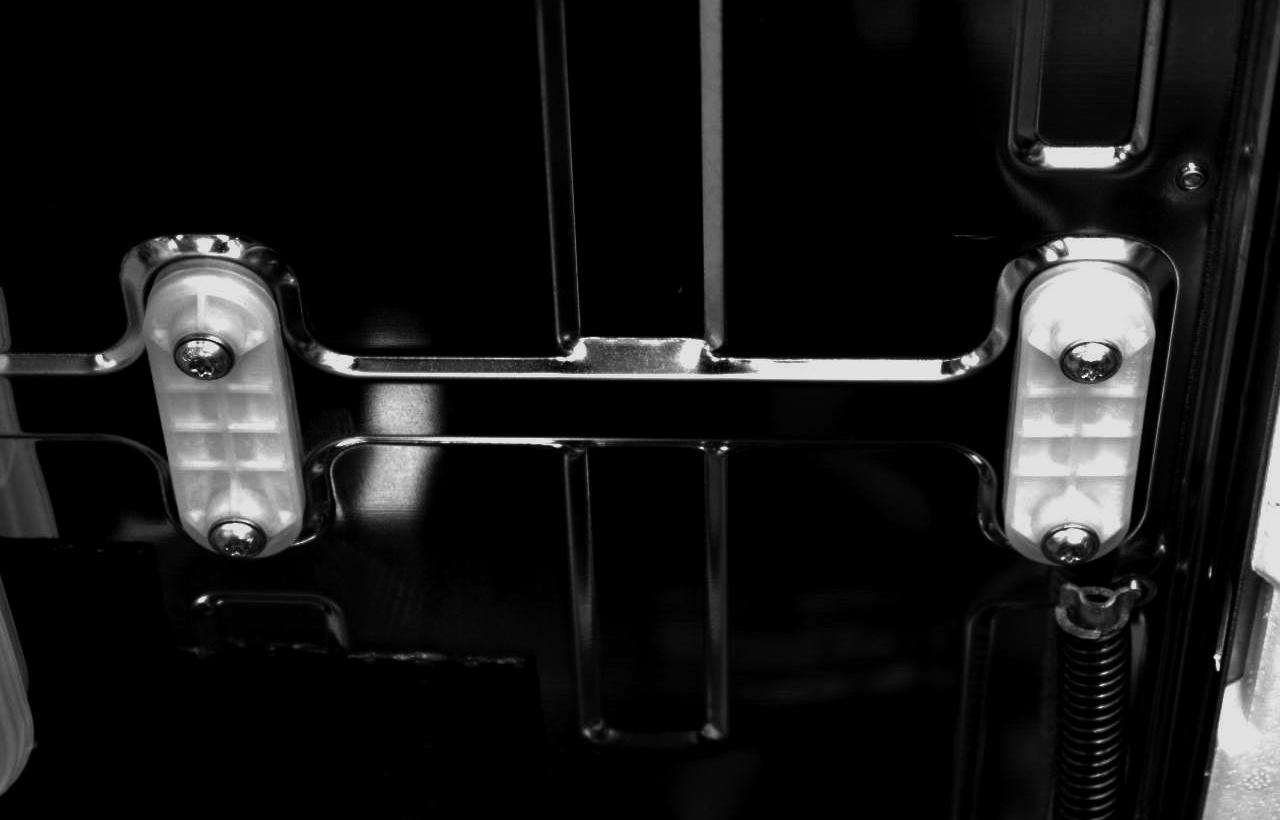vida-ok: (174, 321, 246, 388), (1064, 325, 1131, 392), (210, 507, 276, 565), (1044, 517, 1110, 575)
